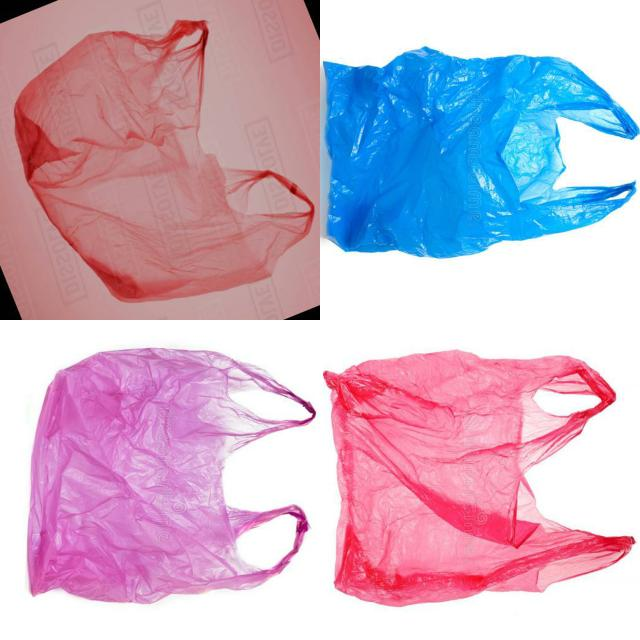Single-layer Plastic: (15, 20, 314, 301), (325, 351, 634, 605), (28, 349, 315, 602), (324, 48, 639, 258)
